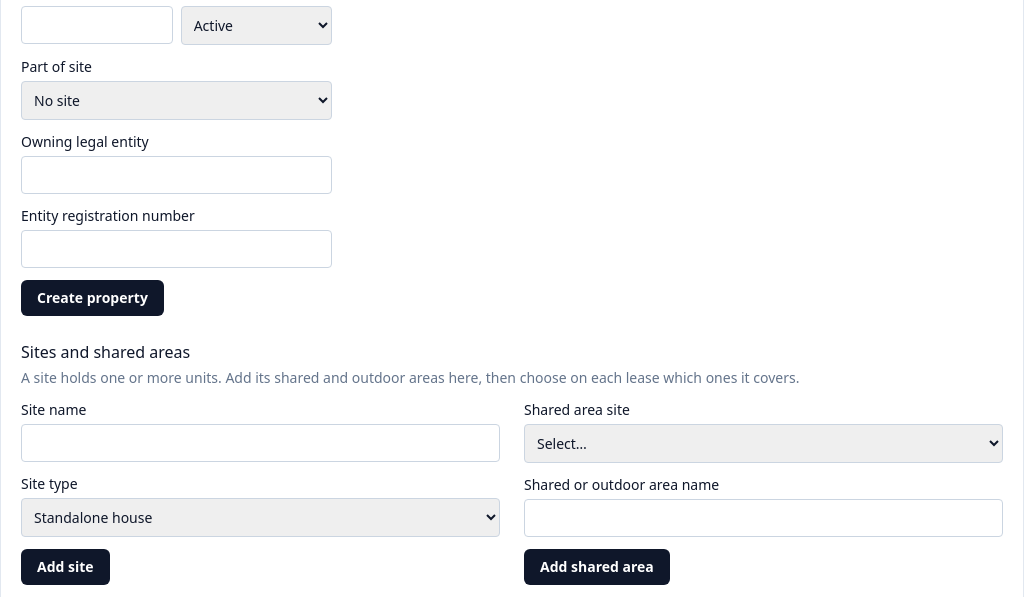
SetupPanel › surfaces API validation errors and posts a property with tenant headers
The image size is (1024, 597).
Later steps or results of the test are not shown.
(page scrolled)
What coordinates should you click on to do the following:
click the button "Create property"
I would click on:
 (92, 298)
Its box is [21,280,164,316].
(page scrolled)
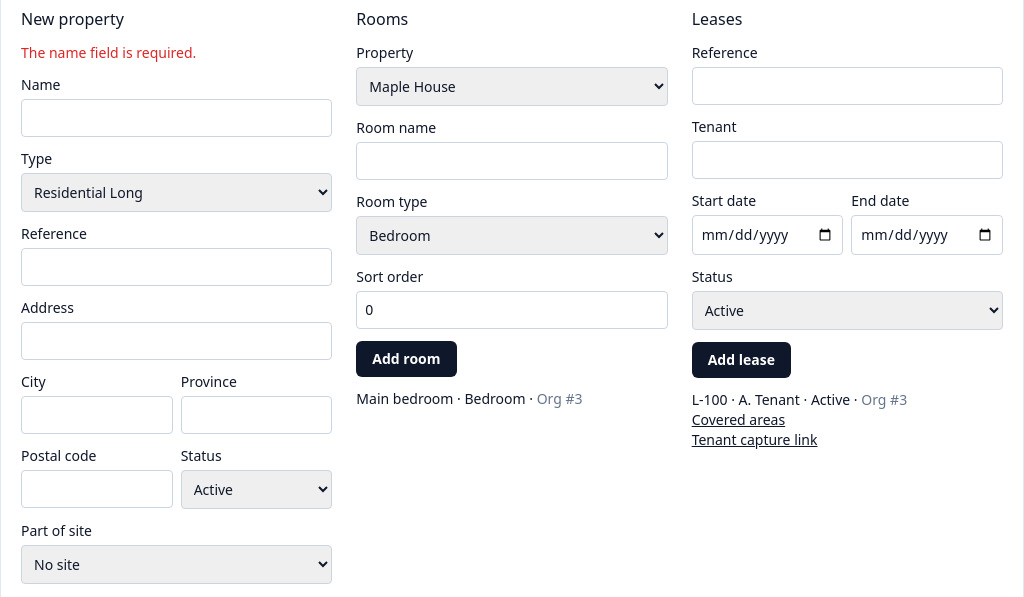
Result: the list item "The name field is required." is shown at [21,43,196,62]
